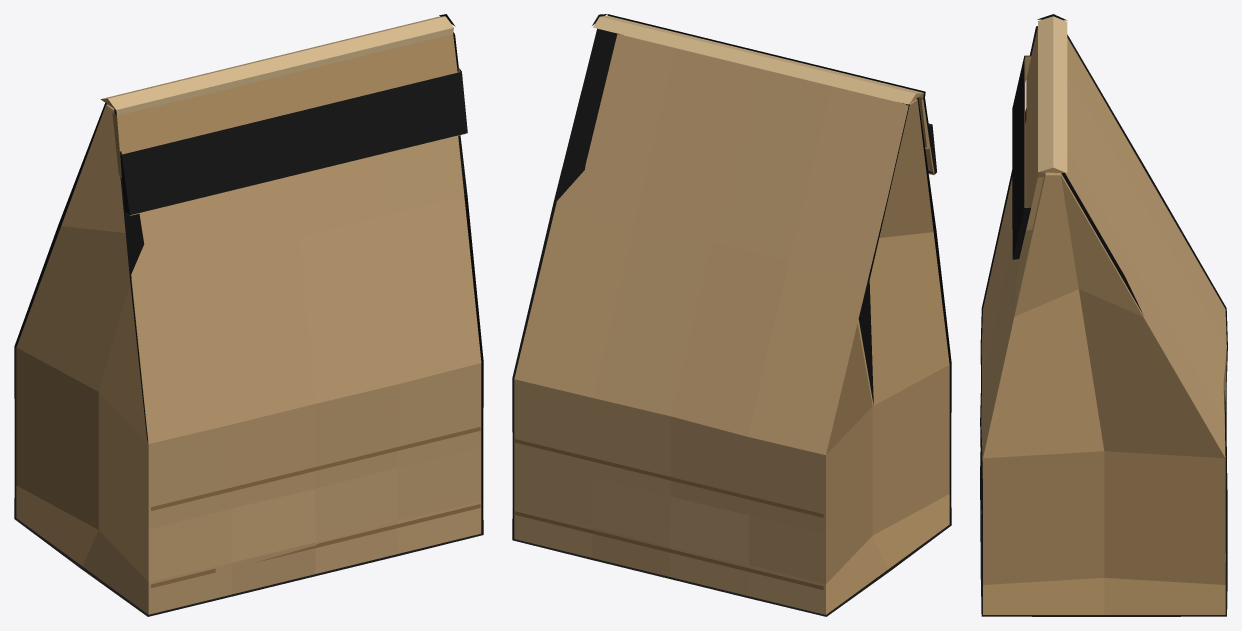
File: Kese_ufak.fbx
The picture shows the model from 3 angles, left to right: view 1: azimuth 30°, elevation 25°; view 2: azimuth 150°, elevation 25°; view 3: azimuth 270°, elevation 25°; orthographic projection. The views are drawn at different scales.
Parts seen in each view (by area): view 1: Kese_ufak; view 2: Kese_ufak; view 3: Kese_ufak.
Part boxes in pixels (x1,y1,x2,y2): Kese_ufak: (14,14,483,616); Kese_ufak: (512,14,951,616); Kese_ufak: (980,14,1227,616).
Bounding box in the file's own units: 0.164 × 0.2259 × 0.1125.
